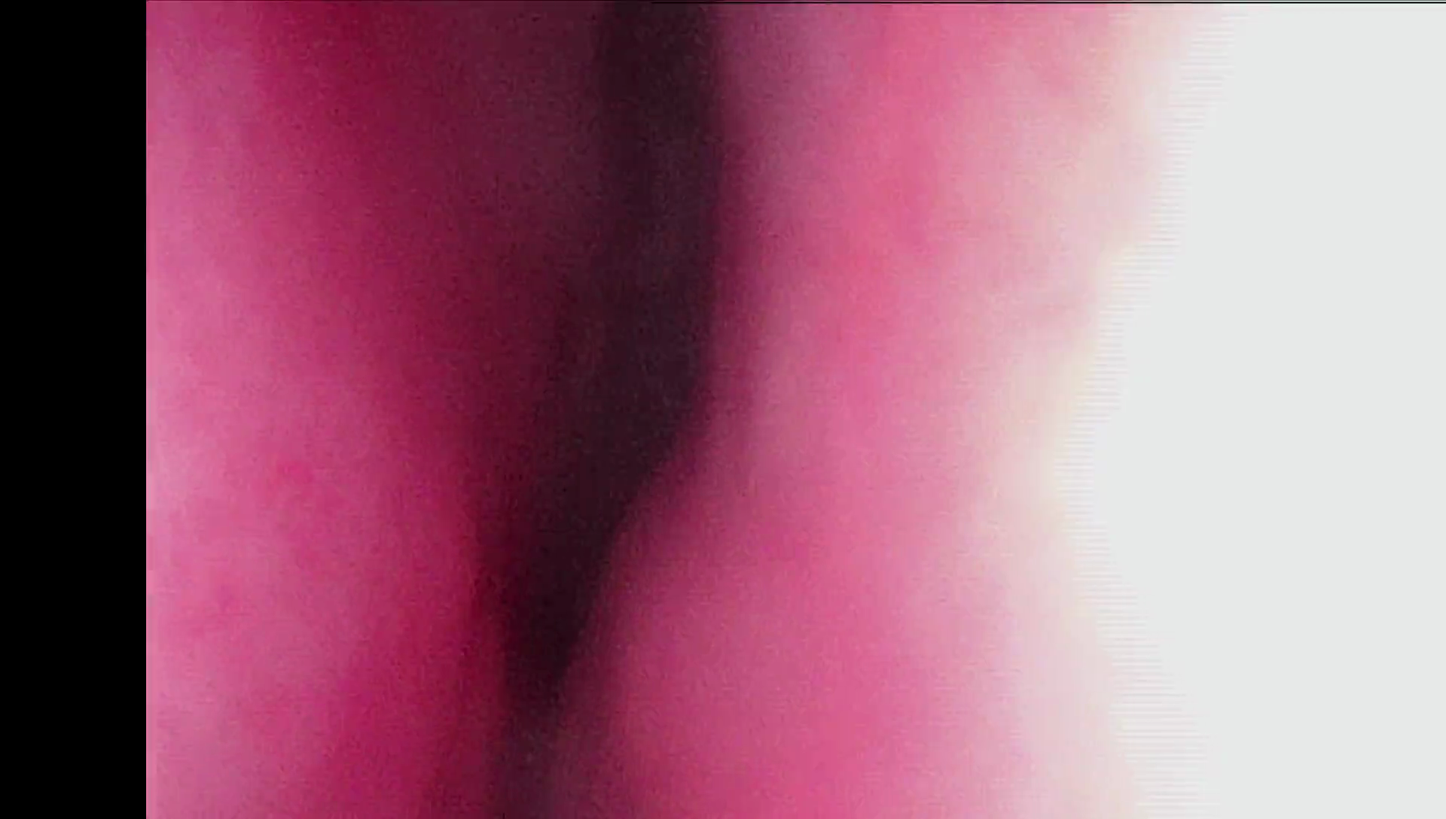close_wall: (858, 10, 1446, 819), (152, 11, 417, 819)
next: (474, 369, 679, 732)
